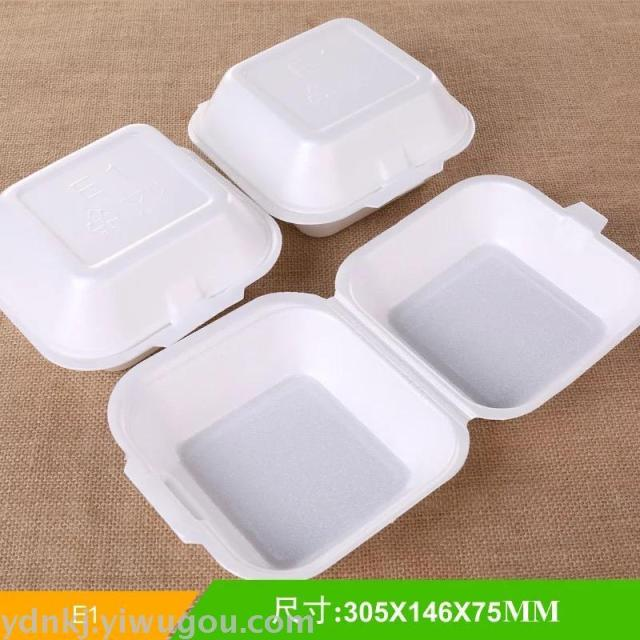styrofoam: (106, 172, 638, 578), (0, 120, 282, 371), (186, 15, 476, 238)
